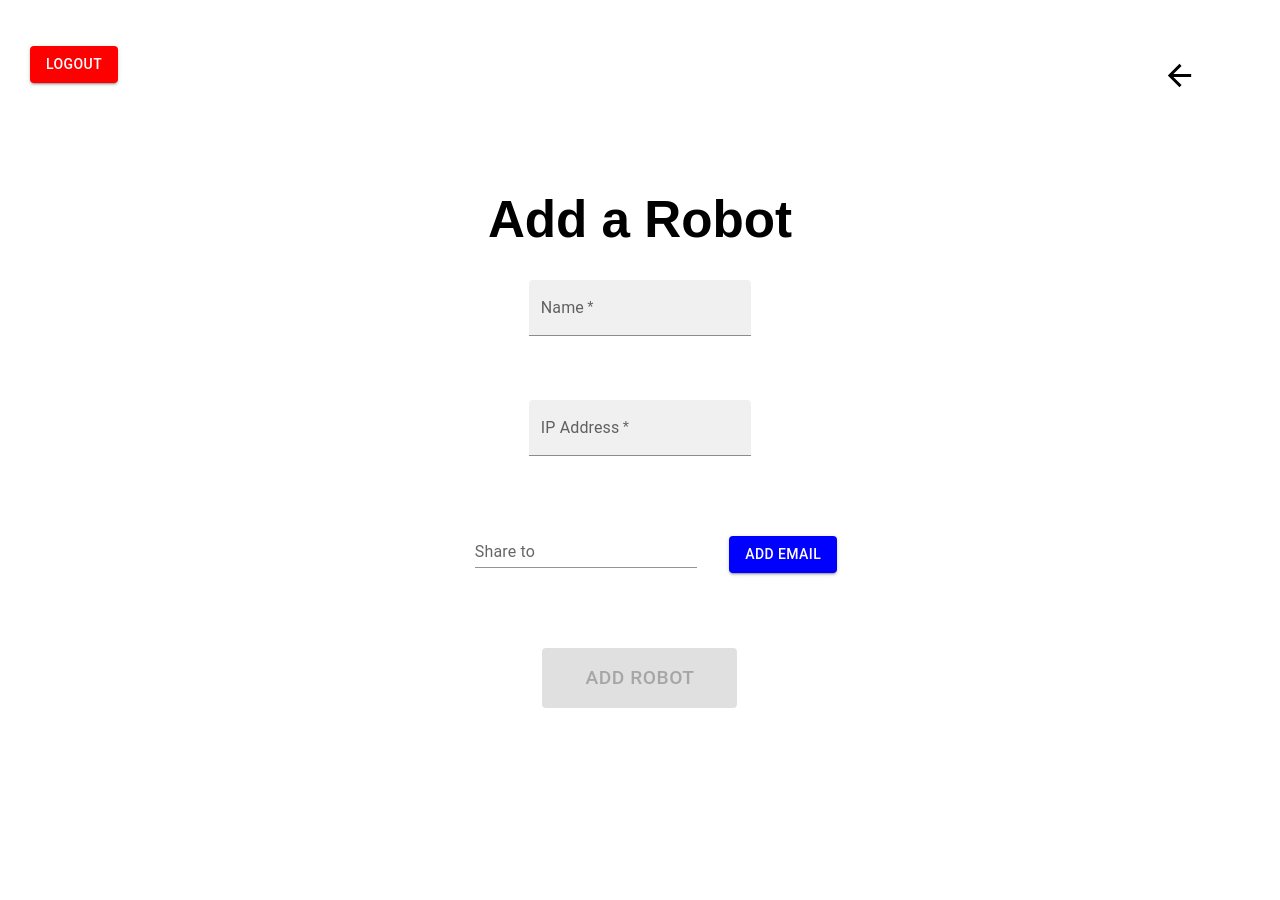
Test: AddRobotPage › disables Add Robot when fields are empty and enables when filled
The image size is (1280, 900).
Expected: the button "Add Robot" is disabled, [542,648,738,708]
Type "TestBot" into the field labelled "Name *" at (640, 308), box [529,280,751,336]
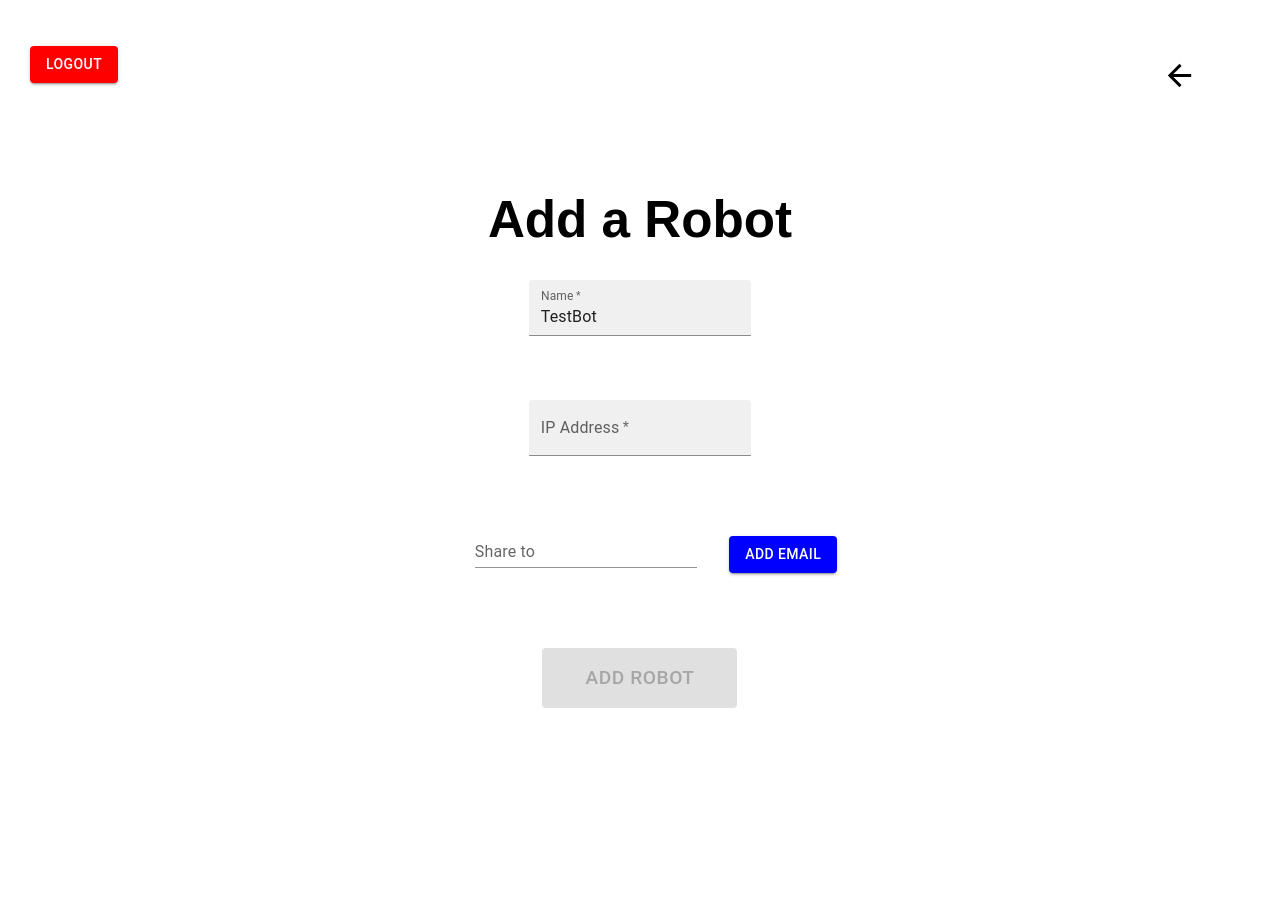
Type "192.168.0.10" into the field labelled "IP Address *" at (640, 428), box [529,400,751,456]
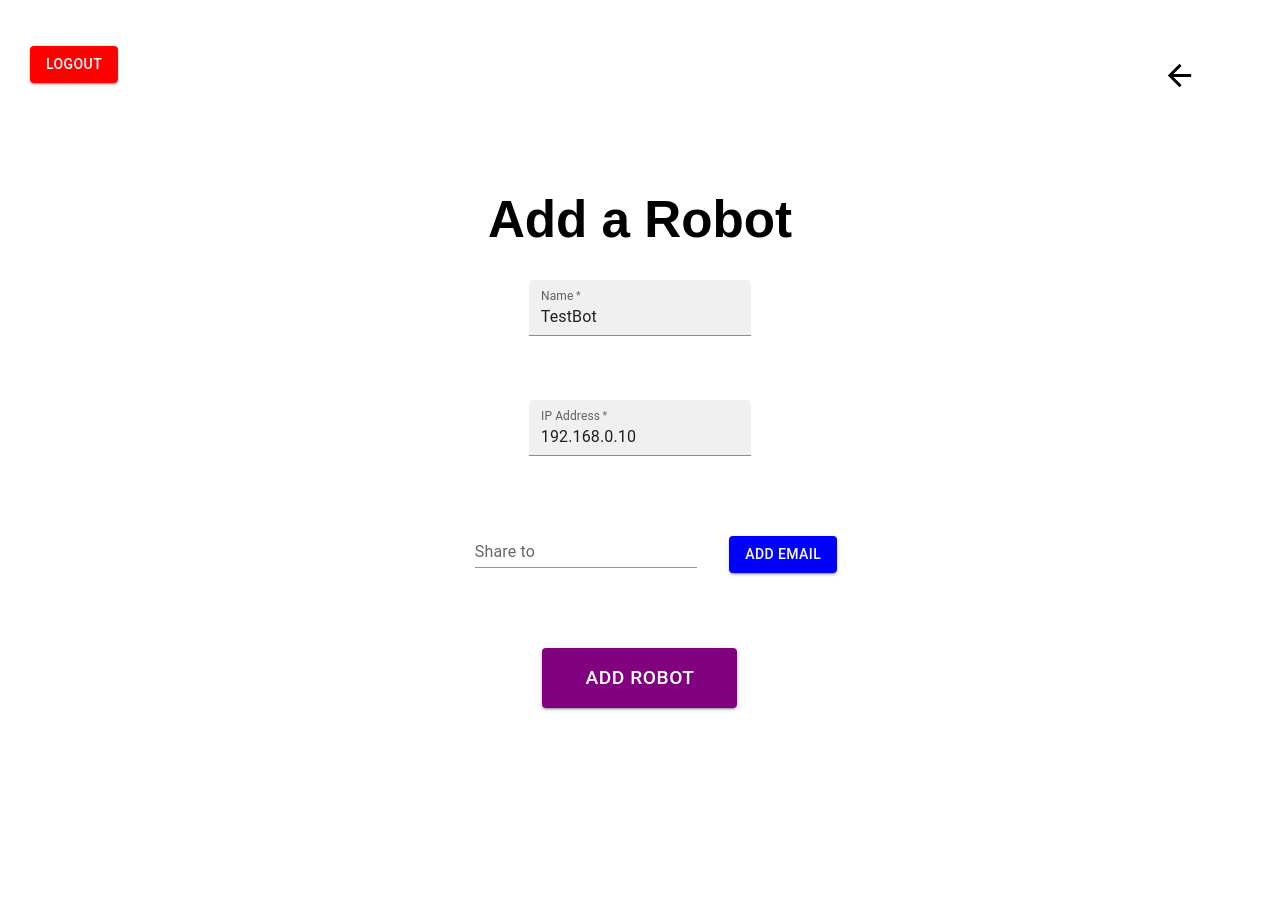
Result: the button "Add Robot" is enabled at [542,648,738,708]
